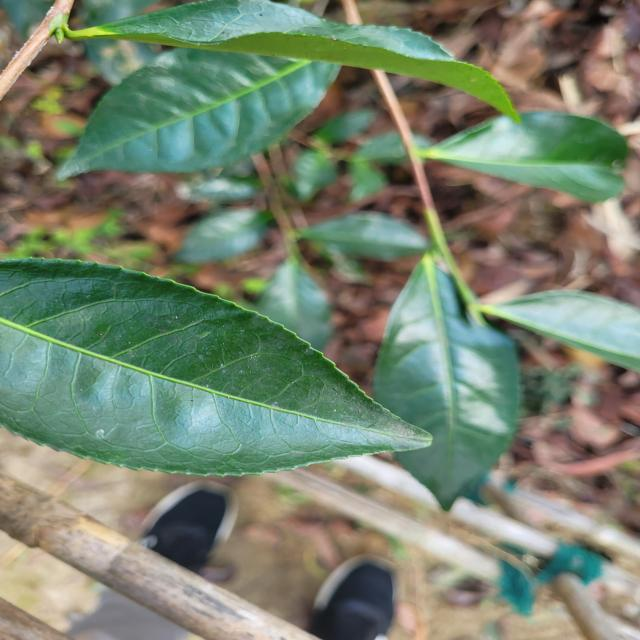Category D 7+ days, Not for Tea: (1, 233, 440, 514)
